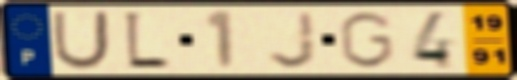1: (202, 8, 235, 73)
4: (404, 9, 461, 71)
G: (335, 9, 397, 70)
J: (265, 9, 320, 70)
L: (120, 9, 173, 72)
U: (49, 9, 112, 71)
